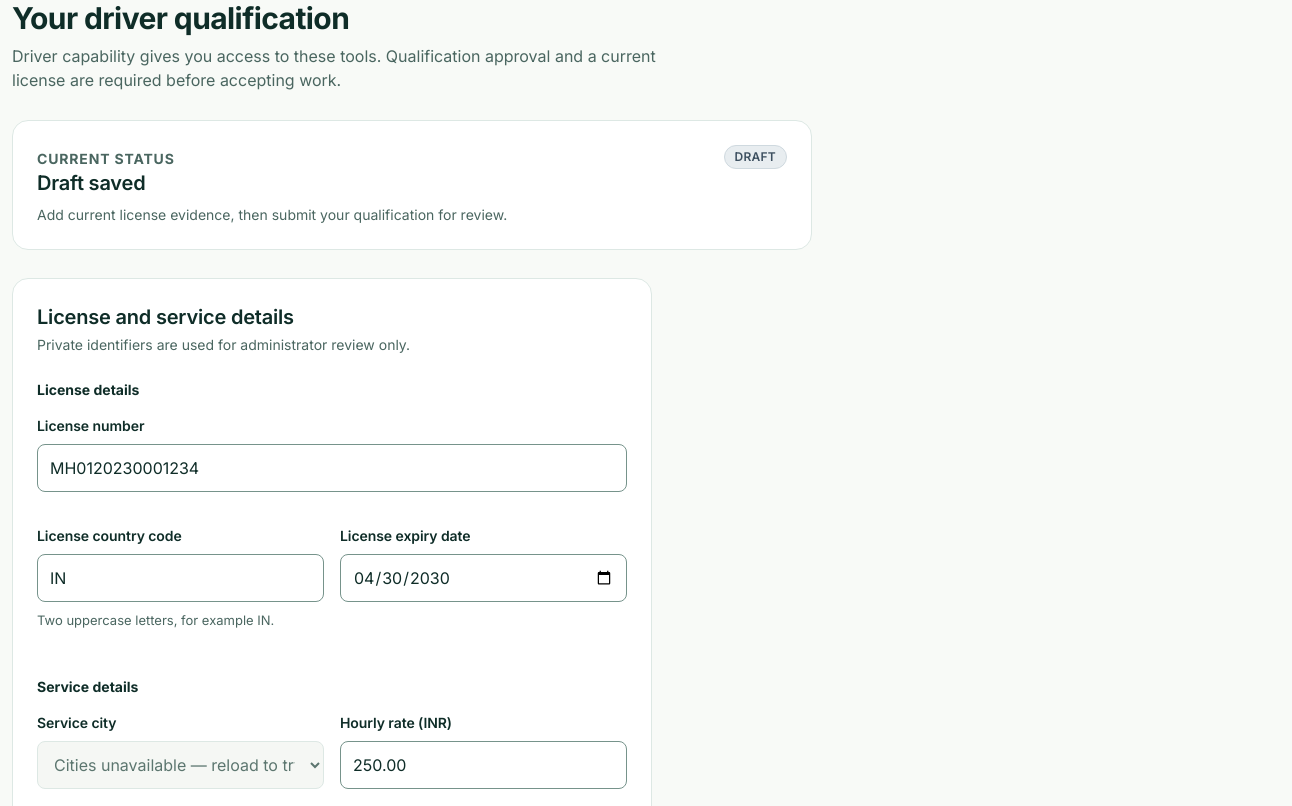
Test: saves qualification details with the current version
Expected: the heading "Draft saved" is shown, [37,171,145,195]
Replace the text in the field labelled "License number" with "KA0120230009999" at (332, 468), box [37,444,627,492]
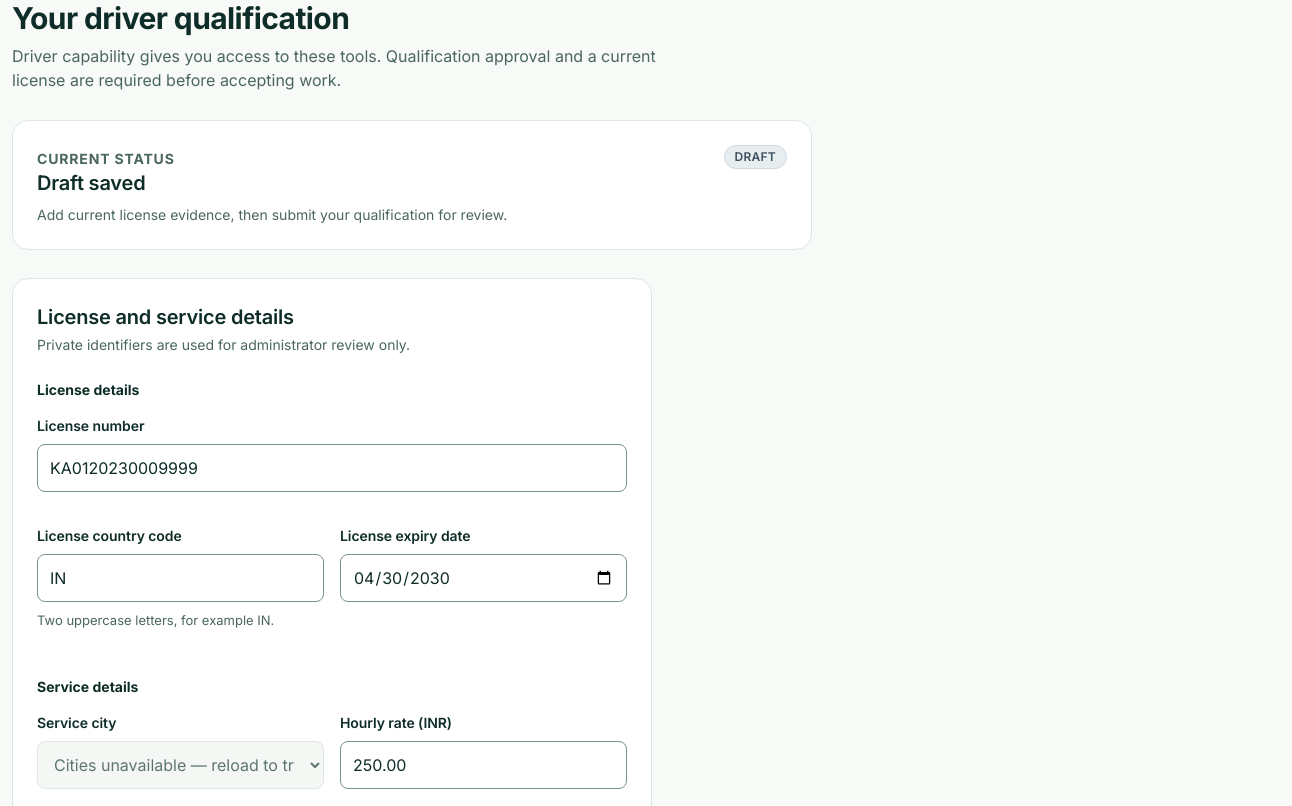
Type "2031-05-31" into the date field labelled "License expiry date" at (484, 578), box [340,554,627,602]
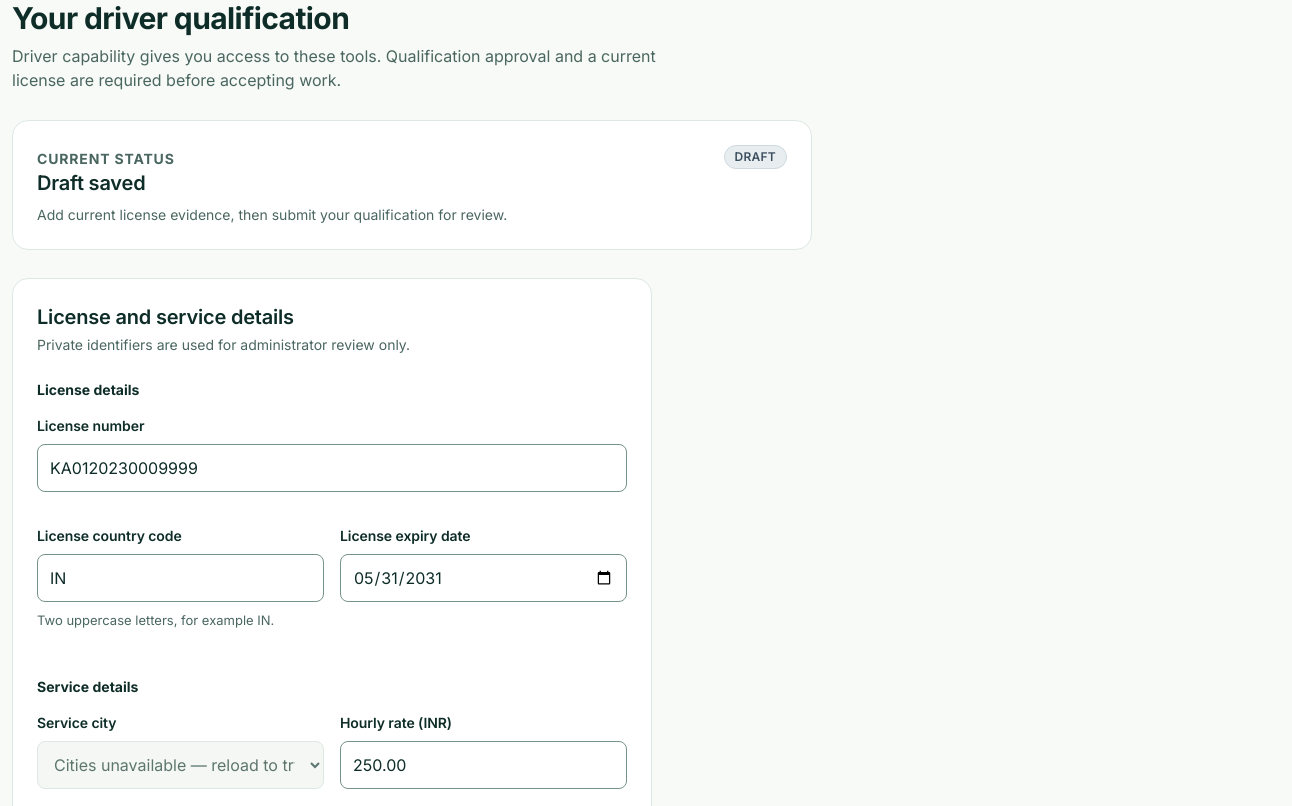
Replace the text in the number field labelled "Hourly rate (INR)" with "450.00" at (484, 765), box [340,741,627,789]
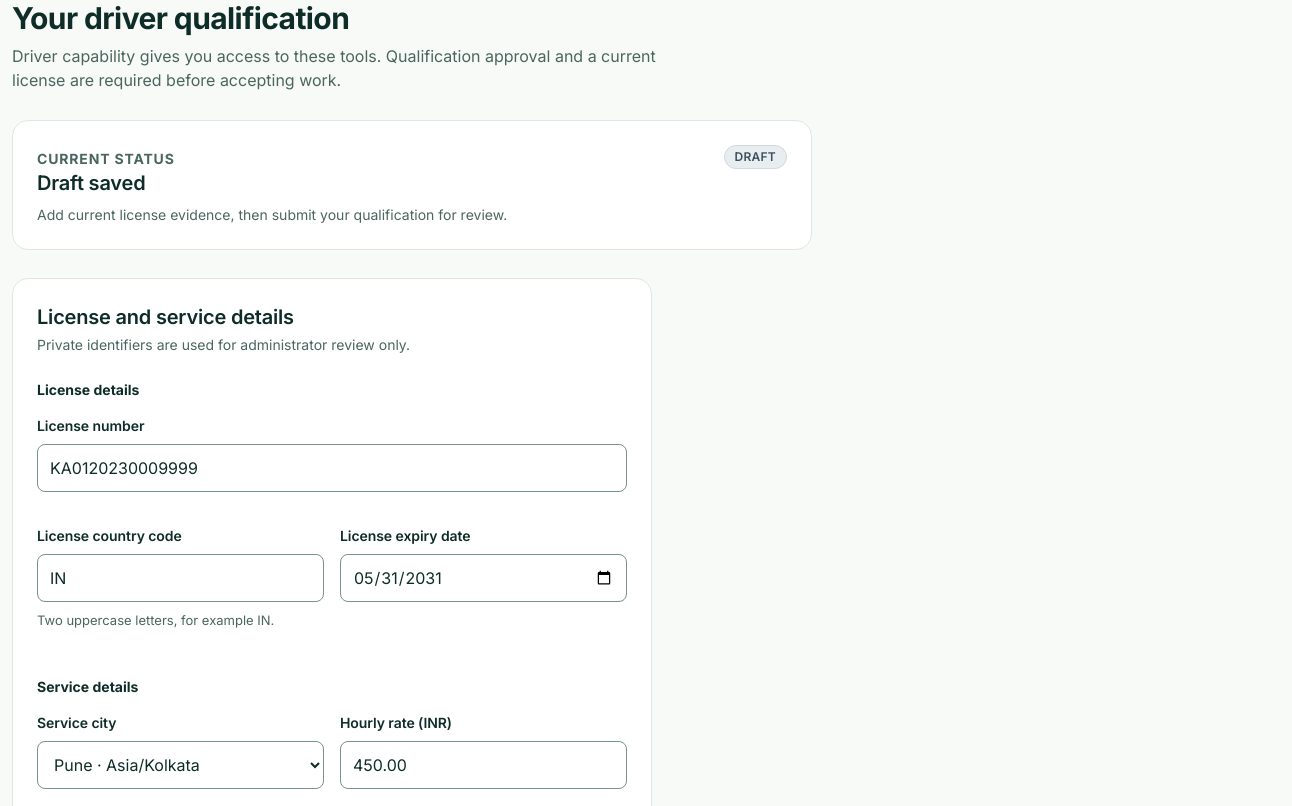
Select "Pune · Asia/Kolkata" in the dropdown labelled "Service city" at (180, 765), box [37,741,324,789]
(page scrolled)
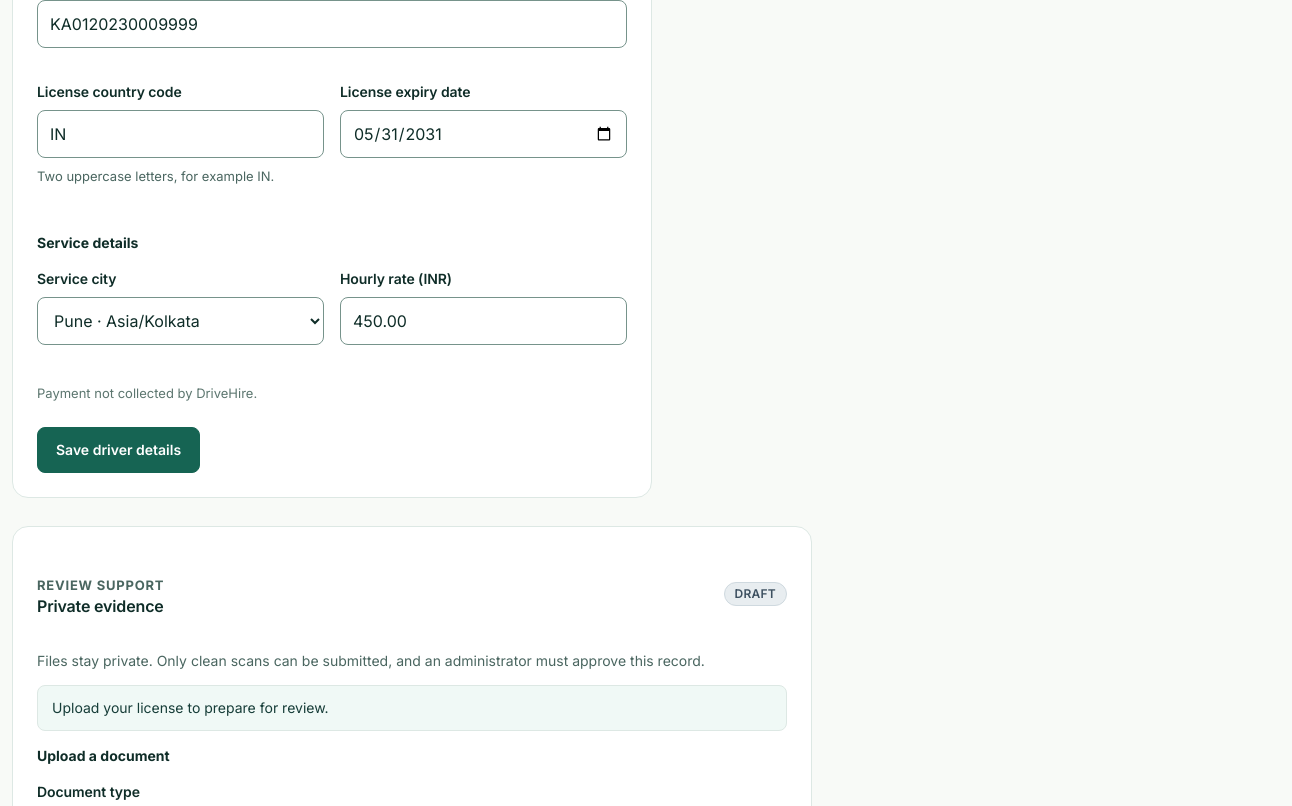
Click the button "Save driver details" at (119, 450), box [37,427,200,473]
(page scrolled)
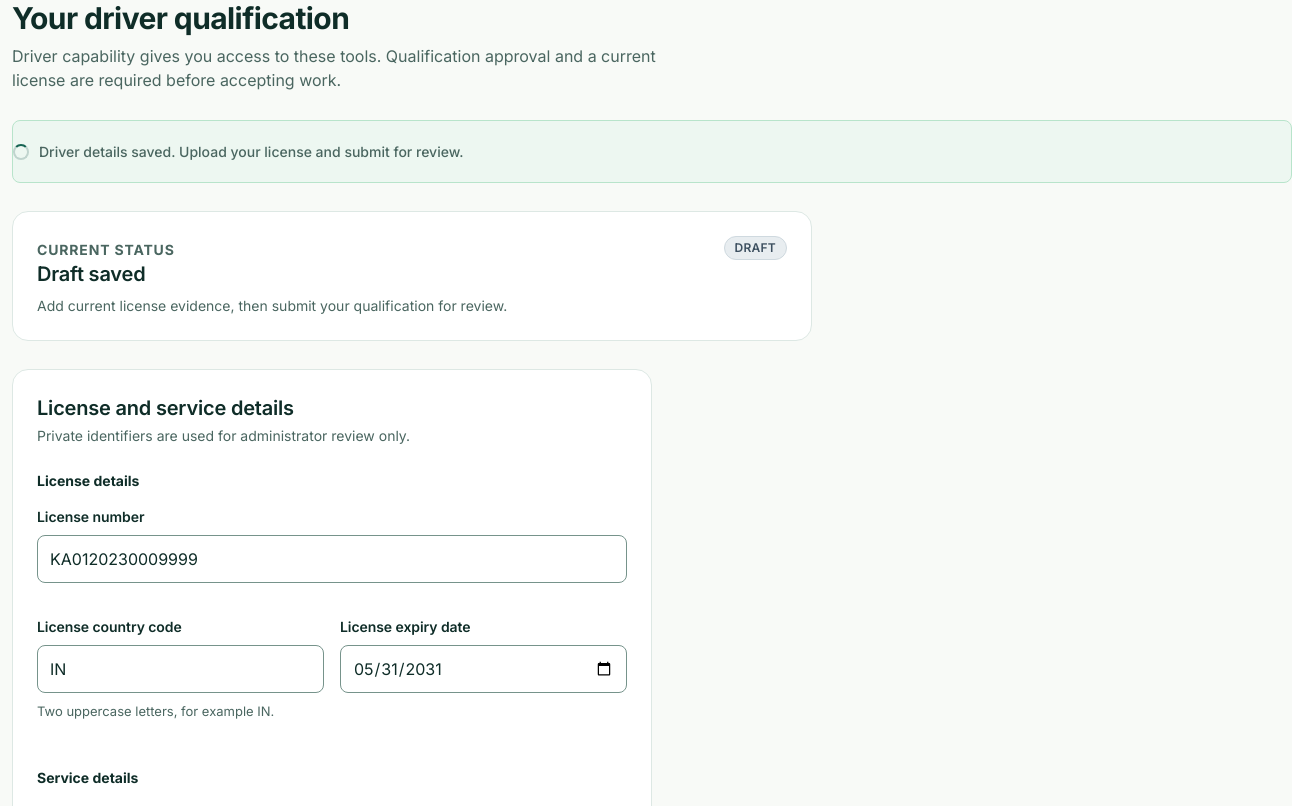
Expected: the text "Driver details saved. Upload your license and submit for review." is shown, [12,120,1291,183]
